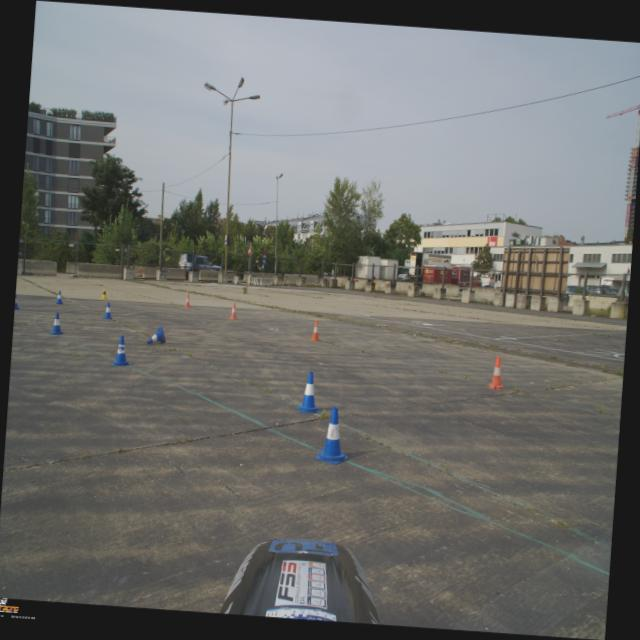blue_cone: (314, 405, 352, 465), (296, 371, 322, 414), (110, 334, 133, 366), (47, 311, 66, 335), (146, 325, 166, 345), (100, 302, 114, 320), (54, 290, 64, 304), (14, 294, 22, 310)
orange_cone: (487, 355, 508, 390), (308, 319, 322, 341), (228, 302, 239, 320), (183, 292, 192, 308)
yellow_cone: (100, 288, 108, 300)
